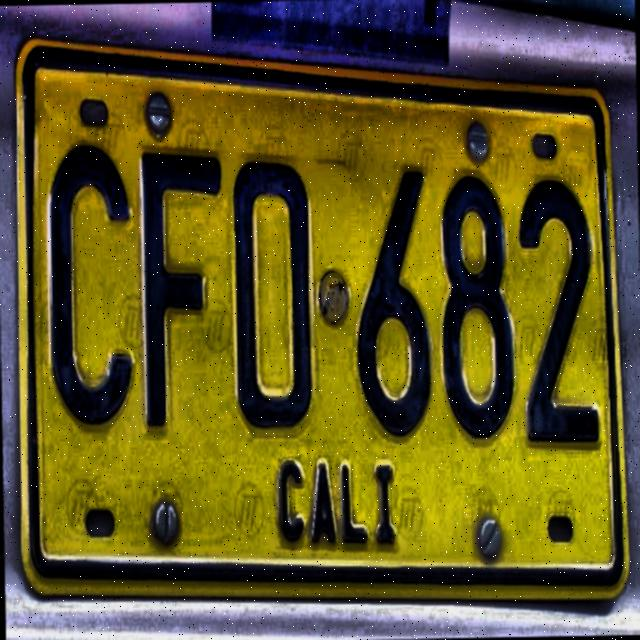2: (514, 168, 604, 486)
6: (350, 160, 435, 443)
8: (436, 164, 520, 469)
C: (41, 132, 138, 438)
F: (136, 137, 226, 440)
O: (227, 142, 317, 453)
